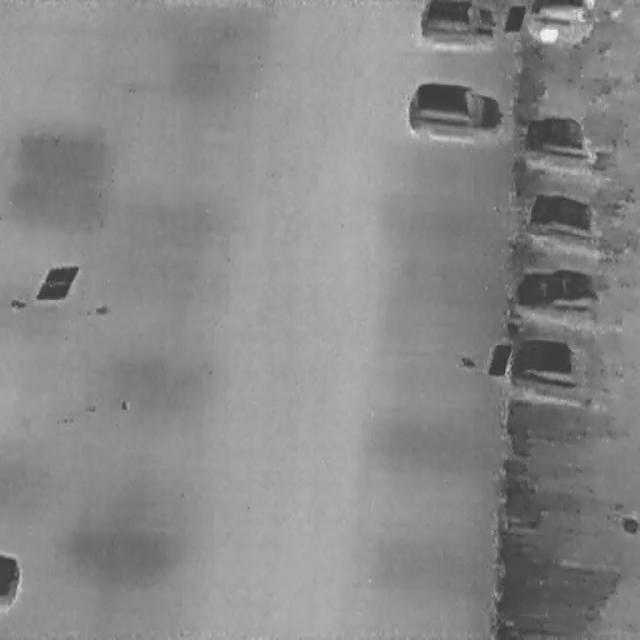Car: (506, 328, 610, 413), (403, 72, 505, 148), (519, 182, 615, 252), (521, 108, 615, 170), (514, 262, 611, 322), (415, 0, 497, 42), (0, 551, 23, 610)
